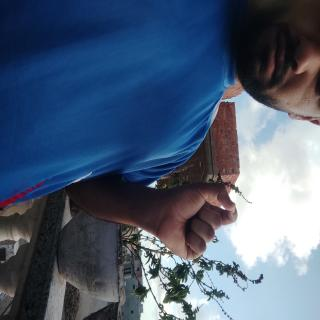FAA: (129, 104, 201, 238)
